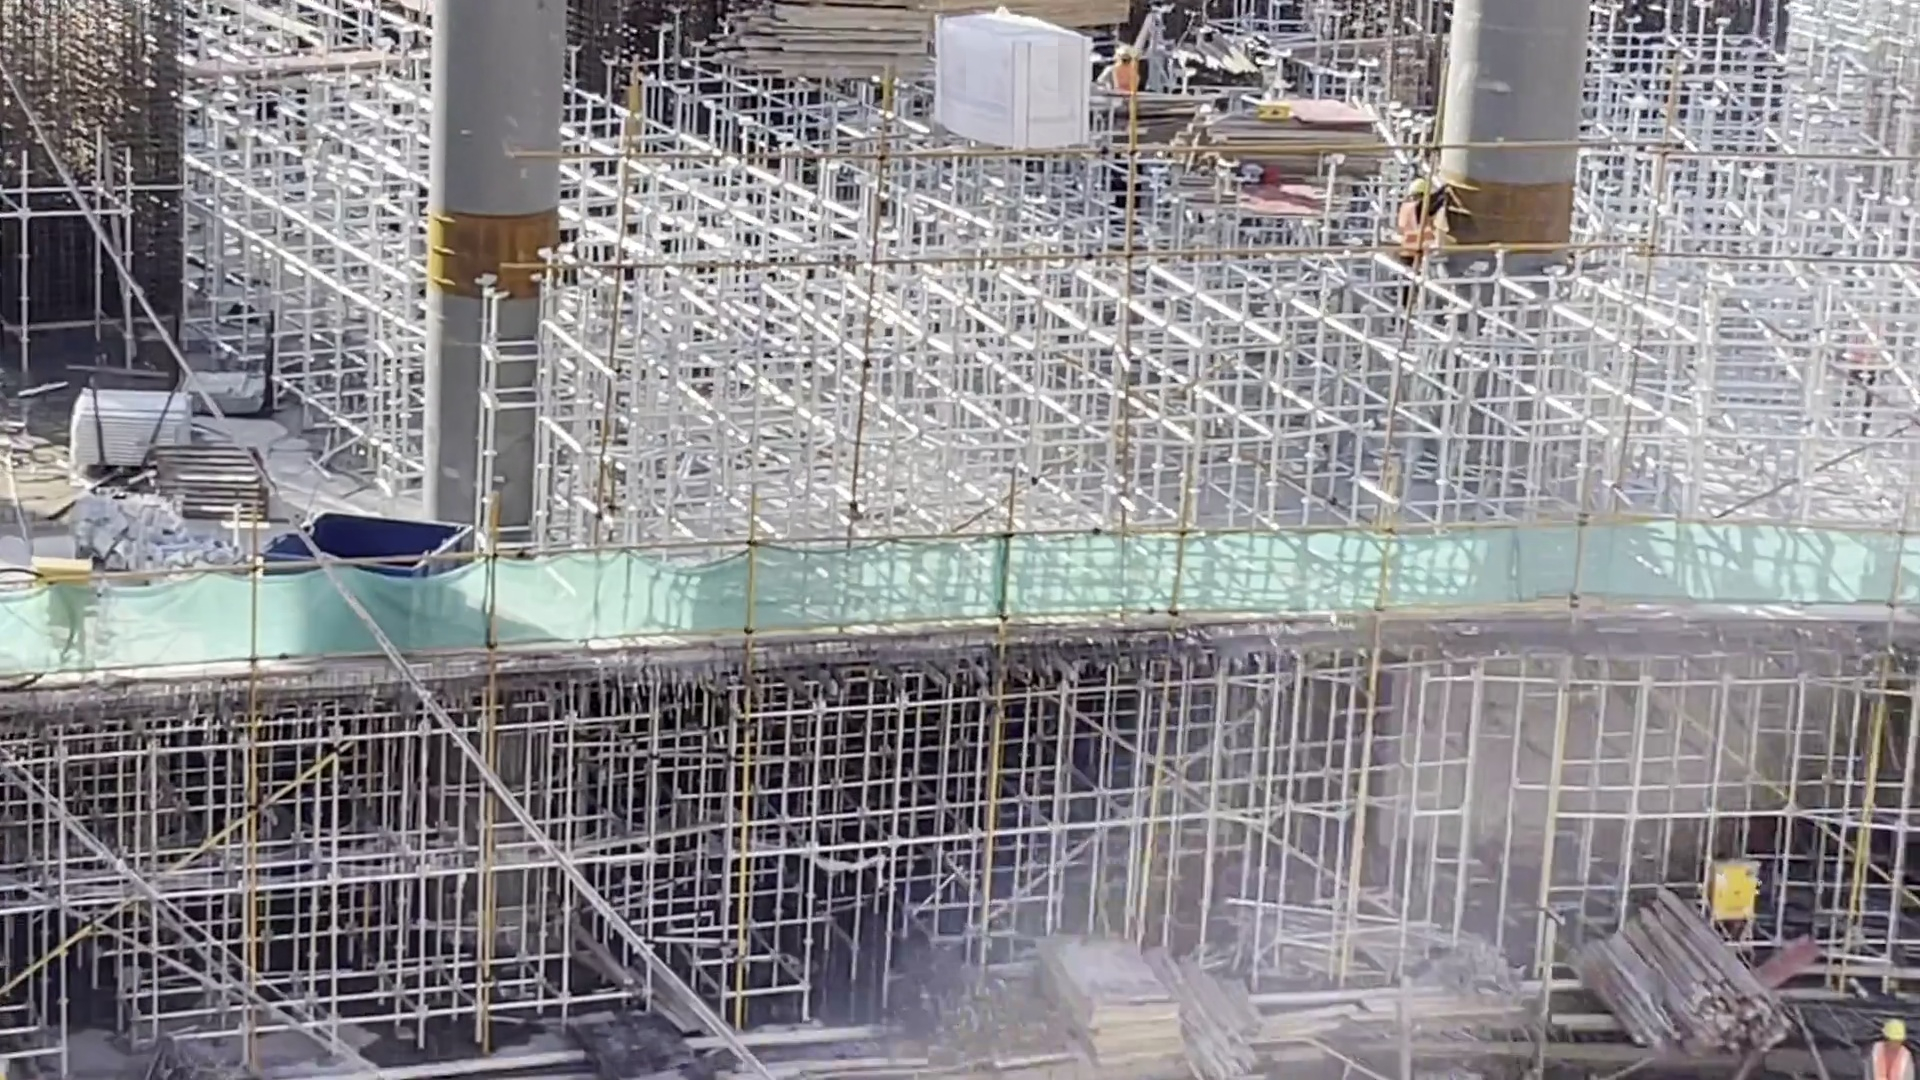board: (1031, 924, 1191, 1070), (1175, 96, 1398, 178)
ebox: (1708, 856, 1762, 934)
helmet: (1880, 1017, 1906, 1042), (1405, 179, 1429, 194)
hopper: (255, 511, 476, 561)
person: (1852, 1012, 1920, 1077), (1397, 177, 1454, 255), (1101, 46, 1143, 92)
scaffold: (74, 387, 189, 472)
vest: (1398, 200, 1444, 253), (1868, 1042, 1912, 1078), (1109, 64, 1142, 95)
wood: (1570, 880, 1791, 1053), (701, 5, 929, 94), (1180, 954, 1271, 1079), (1027, 1, 1137, 29)
